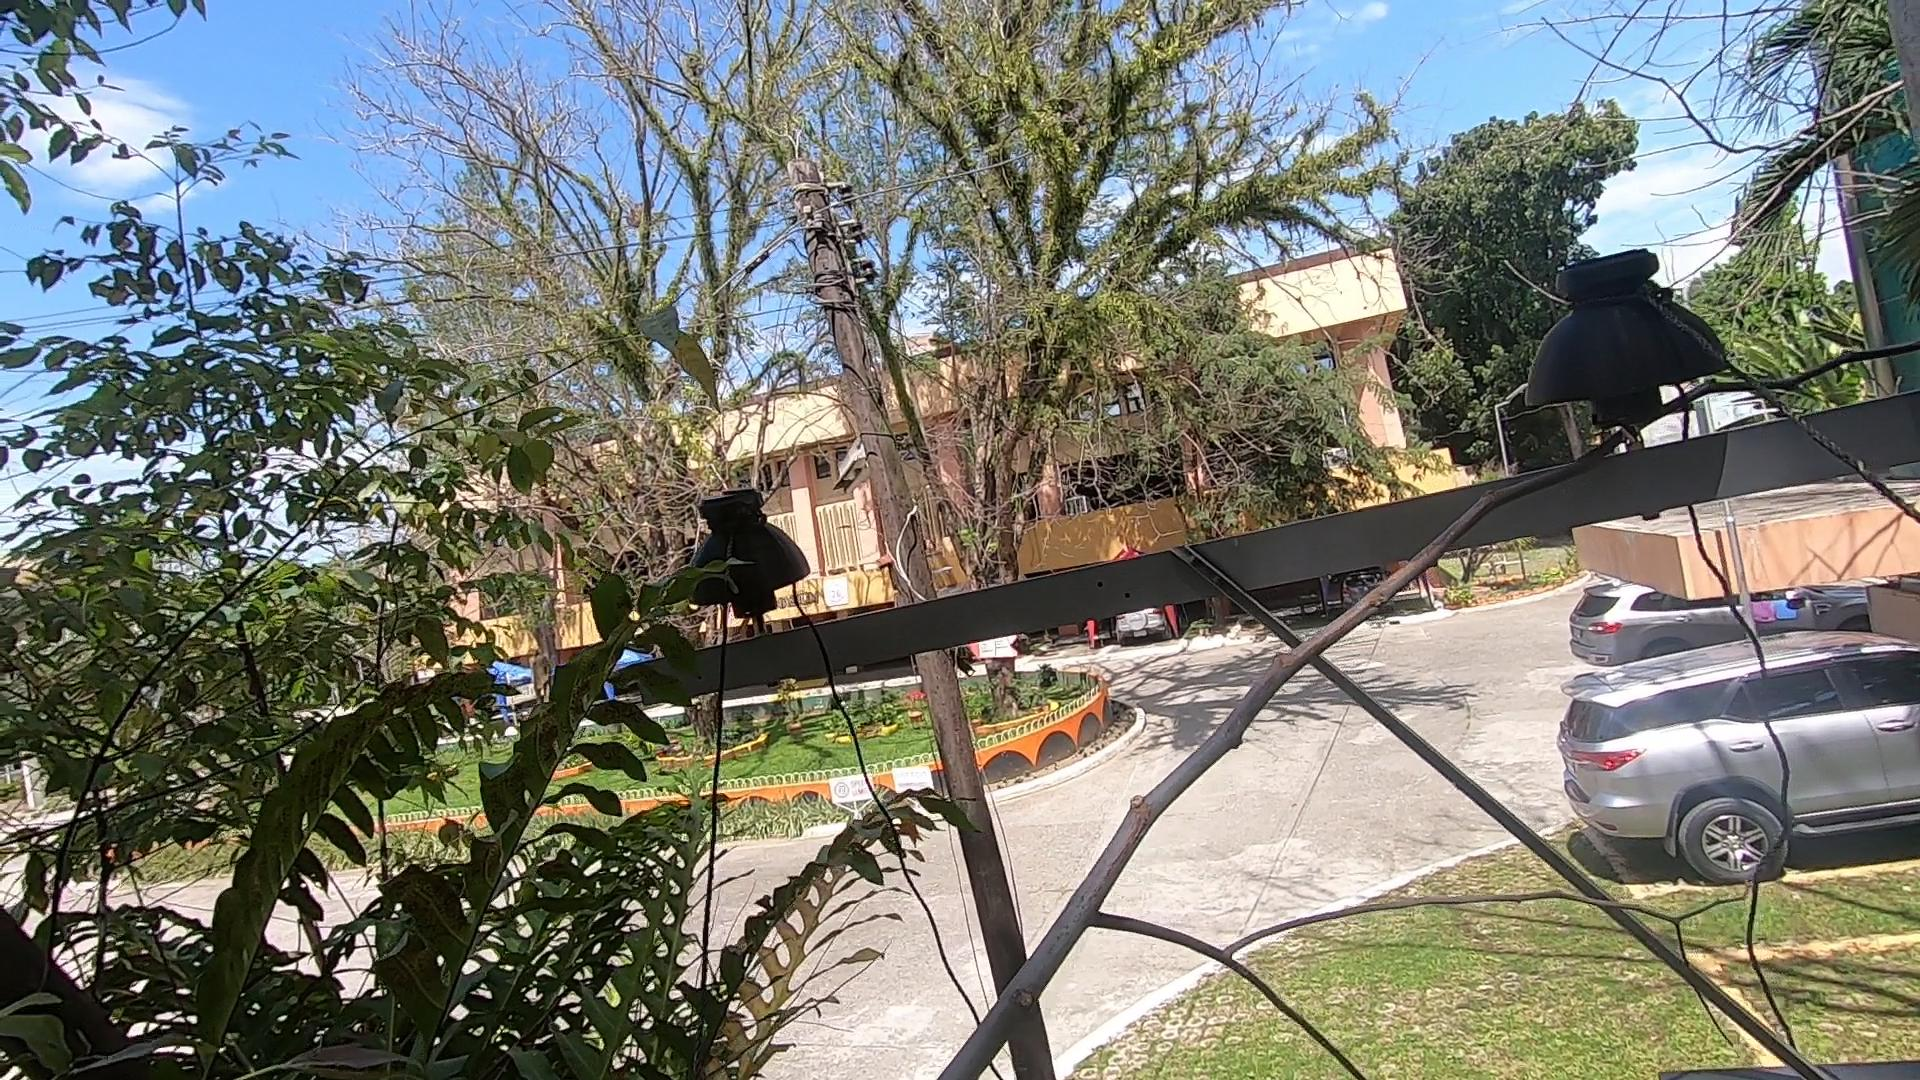tree branch: (794, 324, 1920, 1040)
